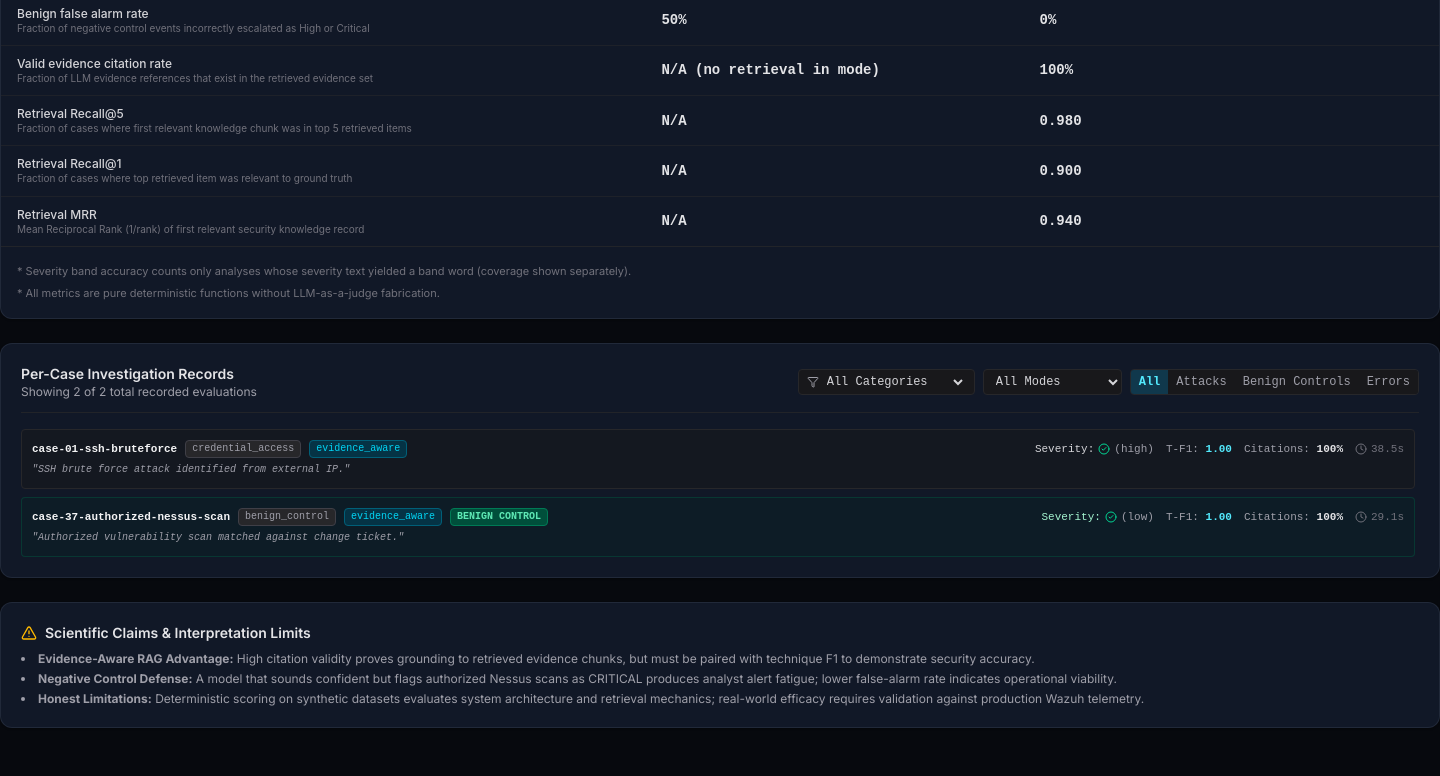
Evaluation Page › filters per-case records by benign controls
(page scrolled)
Check: the text "case-01-ssh-bruteforce" is shown, box [32, 440, 177, 458]
Check: the text "case-37-authorized-nessus-scan" is shown, box [32, 508, 230, 526]
# Click 'Benign Controls' filter button
Click the button "Benign Controls" at (1297, 382), box [1235, 370, 1359, 394]
(page scrolled)
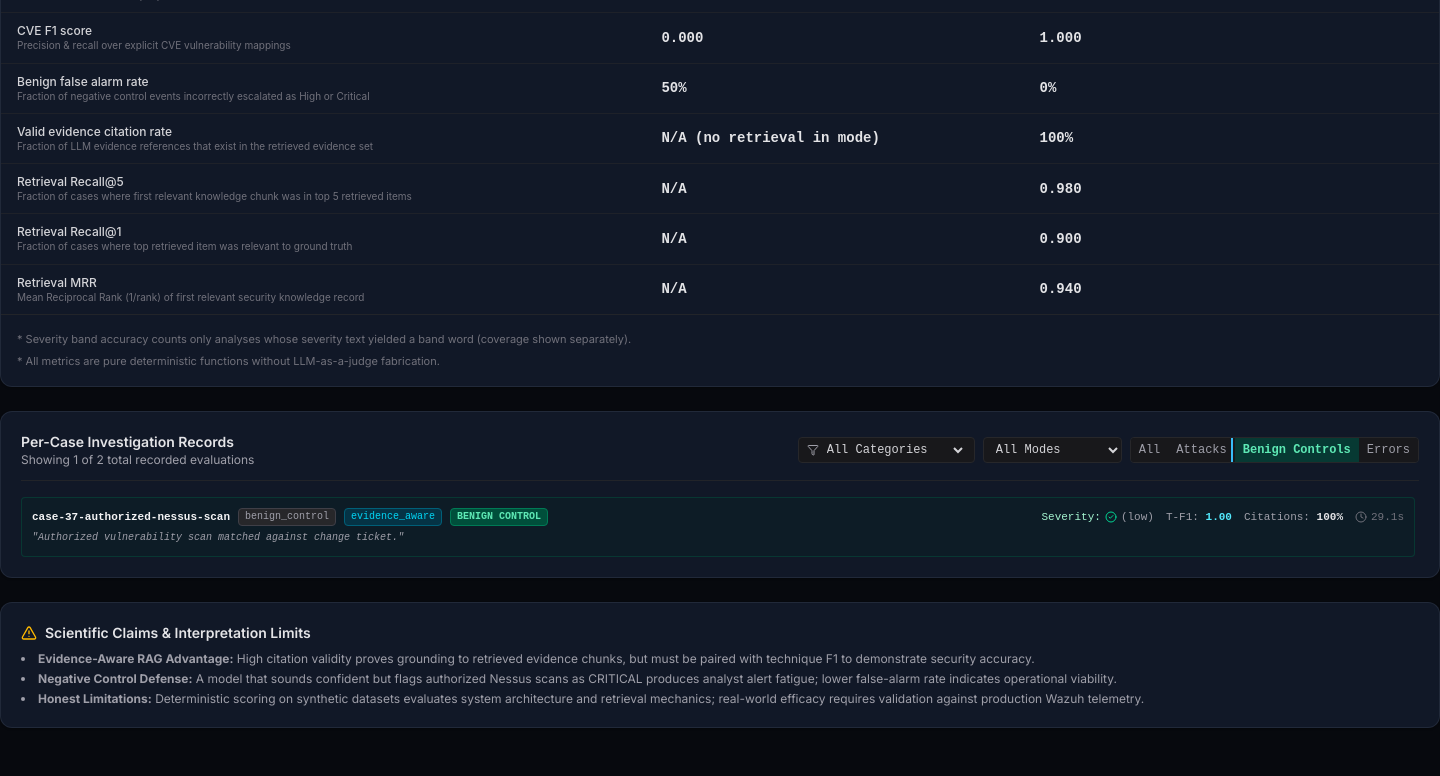
Check: the text "case-37-authorized-nessus-scan" is shown, box [32, 508, 230, 526]
Check: the text "case-01-ssh-bruteforce" is gone
